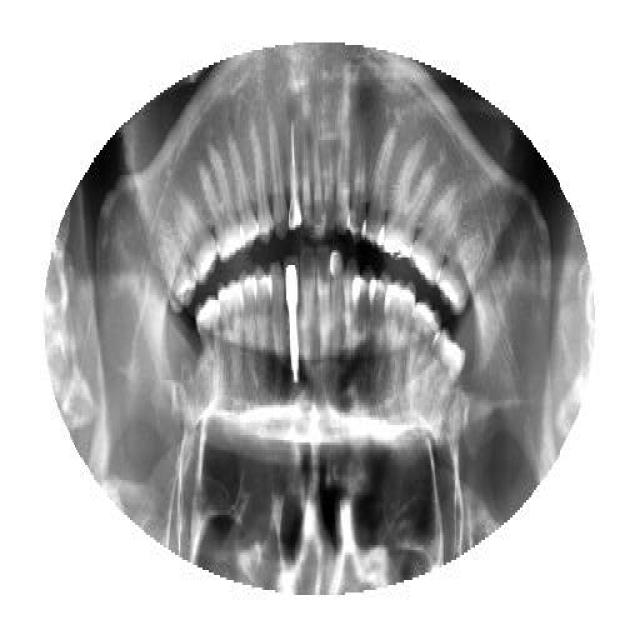Implant: (282, 252, 302, 390), (285, 110, 301, 242)
